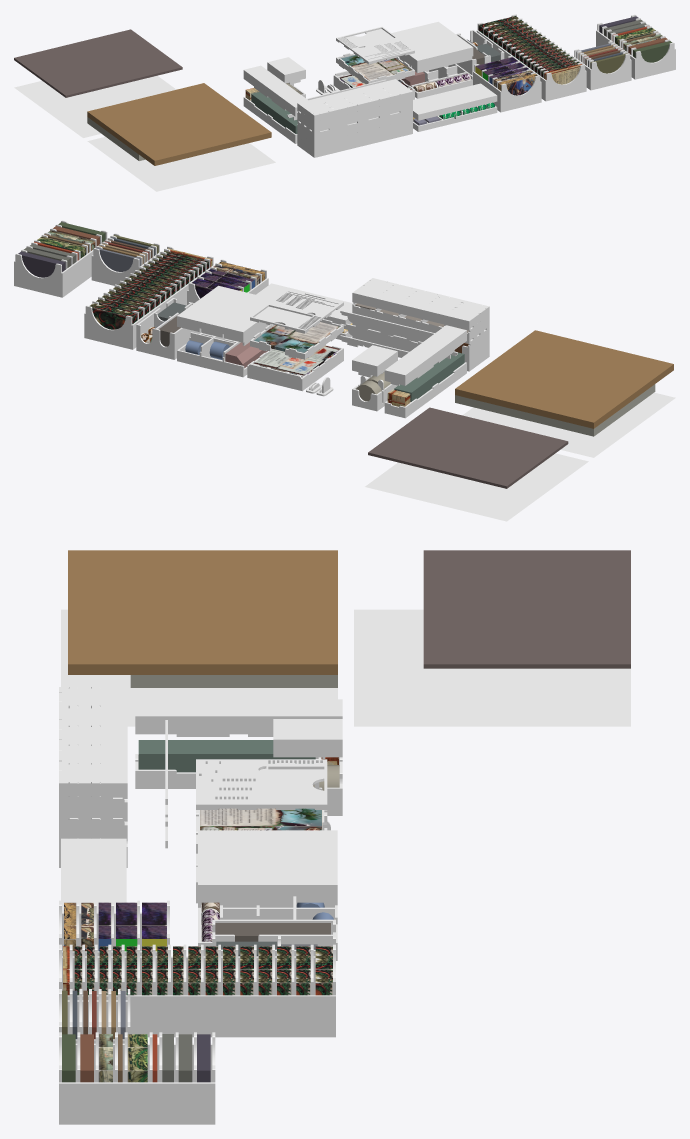
3 renders of one model, top to bottom at view 1: azimuth 30°, elevation 25°; view 2: azimuth 150°, elevation 25°; view 3: azimuth 270°, elevation 25°, orthographic. The views are drawn at different scales.
Visible parts, largest first — view 1: Mesh302 Group335 Group331 Model, Mesh305 Group337 Model, Mesh303 Group336 Model, Mesh304 Group336 Model, Mesh23 Group26 Group19 Group1 Model, Mesh140 Group158 Group154 Group146 Model, Mesh36 Group41 Group37 Group36 Model, Mesh77 Group85 Group73 Group72 Model, Mesh61 Group67 Group58 Group36 Model, Mesh267 Group294 Group293 Group285 Group284 Model, Mesh16 Group18 Group2 Group1 Model, Mesh265 Group291 Group285 Group284 Model (+24 smaller); view 2: Mesh302 Group335 Group331 Model, Mesh305 Group337 Model, Mesh304 Group336 Model, Mesh303 Group336 Model, Mesh23 Group26 Group19 Group1 Model, Mesh140 Group158 Group154 Group146 Model, Mesh267 Group294 Group293 Group285 Group284 Model, Mesh265 Group291 Group285 Group284 Model, Mesh124 Group138 Group137 Group129 Model, Mesh273 Group301 Group297 Group296 Group284 Model, Mesh130 Group144 Group129 Model, Mesh176 Group196 Group175 Model (+26 smaller); view 3: Mesh302 Group335 Group331 Model, Mesh305 Group337 Model, Mesh304 Group336 Model, Mesh175 Group195 Group175 Model, Mesh140 Group158 Group154 Group146 Model, Mesh23 Group26 Group19 Group1 Model, Mesh237 Group260 Group248 Model, Mesh303 Group336 Model, Mesh77 Group85 Group73 Group72 Model, Mesh267 Group294 Group293 Group285 Group284 Model, Mesh124 Group138 Group137 Group129 Model, Mesh130 Group144 Group129 Model (+22 smaller).
Boxes of the visible parts, x1,y1,x2,y2 form: Mesh302 Group335 Group331 Model: (87, 83, 271, 165); Mesh305 Group337 Model: (14, 29, 182, 97); Mesh303 Group336 Model: (87, 137, 275, 191); Mesh304 Group336 Model: (14, 75, 175, 137); Mesh23 Group26 Group19 Group1 Model: (297, 79, 412, 116); Mesh140 Group158 Group154 Group146 Model: (391, 21, 473, 62); Mesh36 Group41 Group37 Group36 Model: (313, 111, 412, 157); Mesh77 Group85 Group73 Group72 Model: (413, 83, 497, 115); Mesh61 Group67 Group58 Group36 Model: (335, 120, 412, 151); Mesh267 Group294 Group293 Group285 Group284 Model: (336, 26, 414, 62); Mesh16 Group18 Group2 Group1 Model: (313, 100, 412, 131); Mesh265 Group291 Group285 Group284 Model: (341, 55, 411, 80); Mesh302 Group335 Group331 Model: (455, 330, 673, 428); Mesh305 Group337 Model: (368, 407, 568, 488); Mesh304 Group336 Model: (365, 453, 588, 521); Mesh303 Group336 Model: (462, 392, 675, 457); Mesh23 Group26 Group19 Group1 Model: (352, 278, 489, 322); Mesh140 Group158 Group154 Group146 Model: (177, 285, 273, 333); Mesh267 Group294 Group293 Group285 Group284 Model: (250, 289, 343, 332); Mesh265 Group291 Group285 Group284 Model: (254, 322, 339, 352); Mesh124 Group138 Group137 Group129 Model: (384, 325, 466, 376); Mesh273 Group301 Group297 Group296 Group284 Model: (253, 345, 339, 375); Mesh130 Group144 Group129 Model: (394, 352, 464, 401); Mesh176 Group196 Group175 Model: (84, 305, 133, 347); Mesh302 Group335 Group331 Model: (68, 550, 337, 674); Mesh305 Group337 Model: (423, 550, 630, 668); Mesh304 Group336 Model: (354, 609, 630, 726); Mesh175 Group195 Group175 Model: (67, 995, 335, 1037); Mesh140 Group158 Group154 Group146 Model: (198, 830, 337, 887); Mesh23 Group26 Group19 Group1 Model: (59, 687, 127, 785); Mesh237 Group260 Group248 Model: (59, 1082, 215, 1124); Mesh303 Group336 Model: (61, 609, 337, 726); Mesh77 Group85 Group73 Group72 Model: (61, 838, 126, 912); Mesh267 Group294 Group293 Group285 Group284 Model: (196, 759, 327, 807); Mesh124 Group138 Group137 Group129 Model: (135, 699, 342, 718); Mesh130 Group144 Group129 Model: (138, 740, 315, 772).
Bounding box in the file's own units: 1243 × 113 × 593.
Materials: 50 (15 with a texture image).
